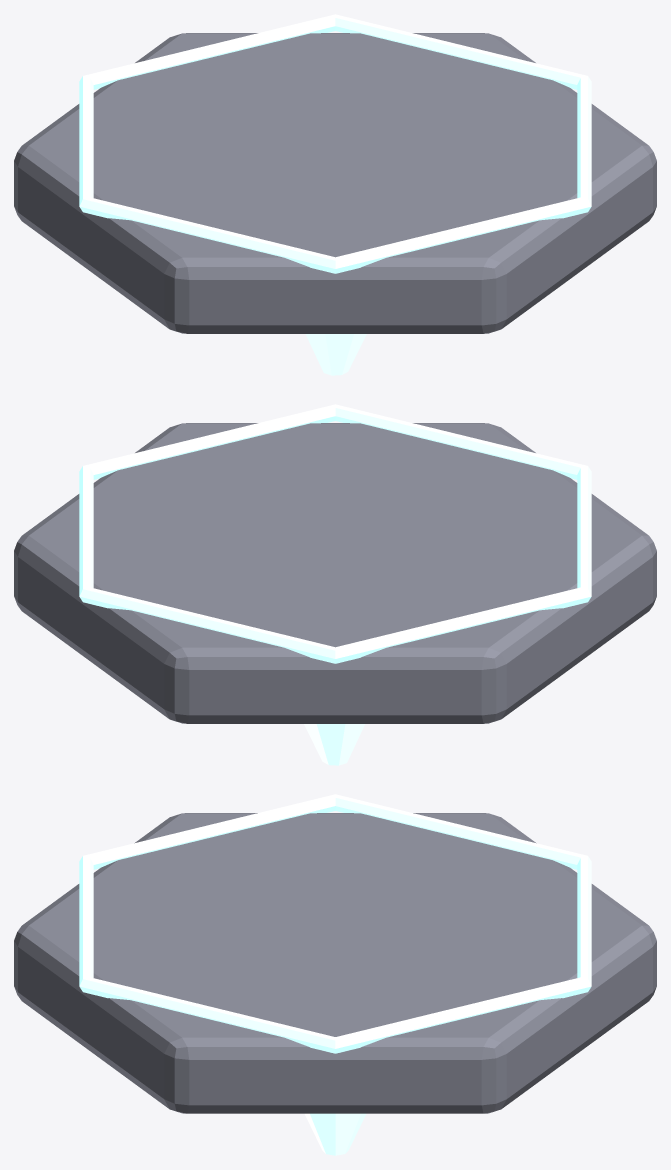
File: platform.glb
The picture shows the model from 3 angles, top to bottom: view 1: azimuth 30°, elevation 25°; view 2: azimuth 150°, elevation 25°; view 3: azimuth 270°, elevation 25°; orthographic projection.
Parts seen in each view (by area): view 1: Cylinder; view 2: Cylinder; view 3: Cylinder.
Part boxes in pixels (x1,y1,x2,y2): Cylinder: (14,14,656,375); Cylinder: (14,404,656,765); Cylinder: (14,794,656,1155).
Bounding box in the file's own units: 3.54 × 1.02 × 3.85.
